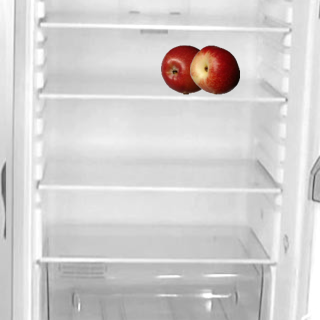Apple Braeburn: (160, 44, 210, 94)
Nectarine: (189, 44, 239, 94)
